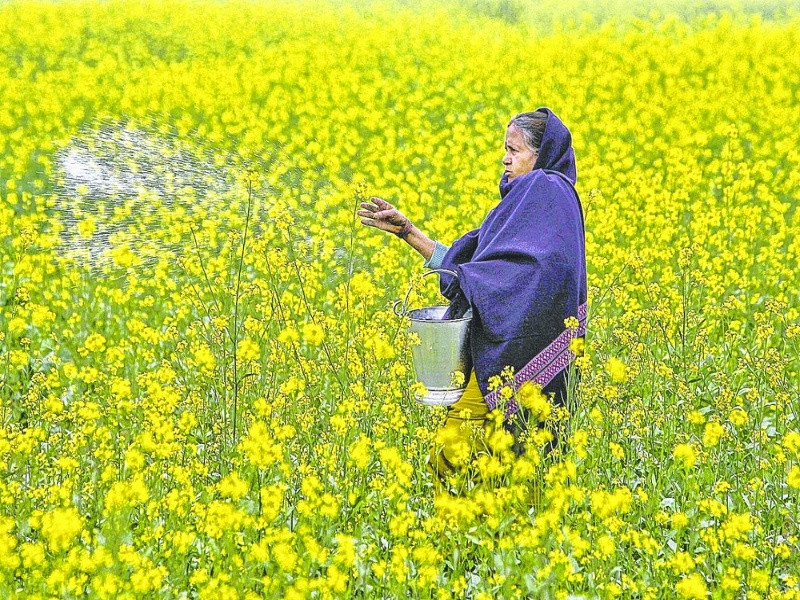mustard: (1, 251, 390, 597), (248, 415, 796, 592), (585, 1, 798, 413), (20, 1, 477, 189)
